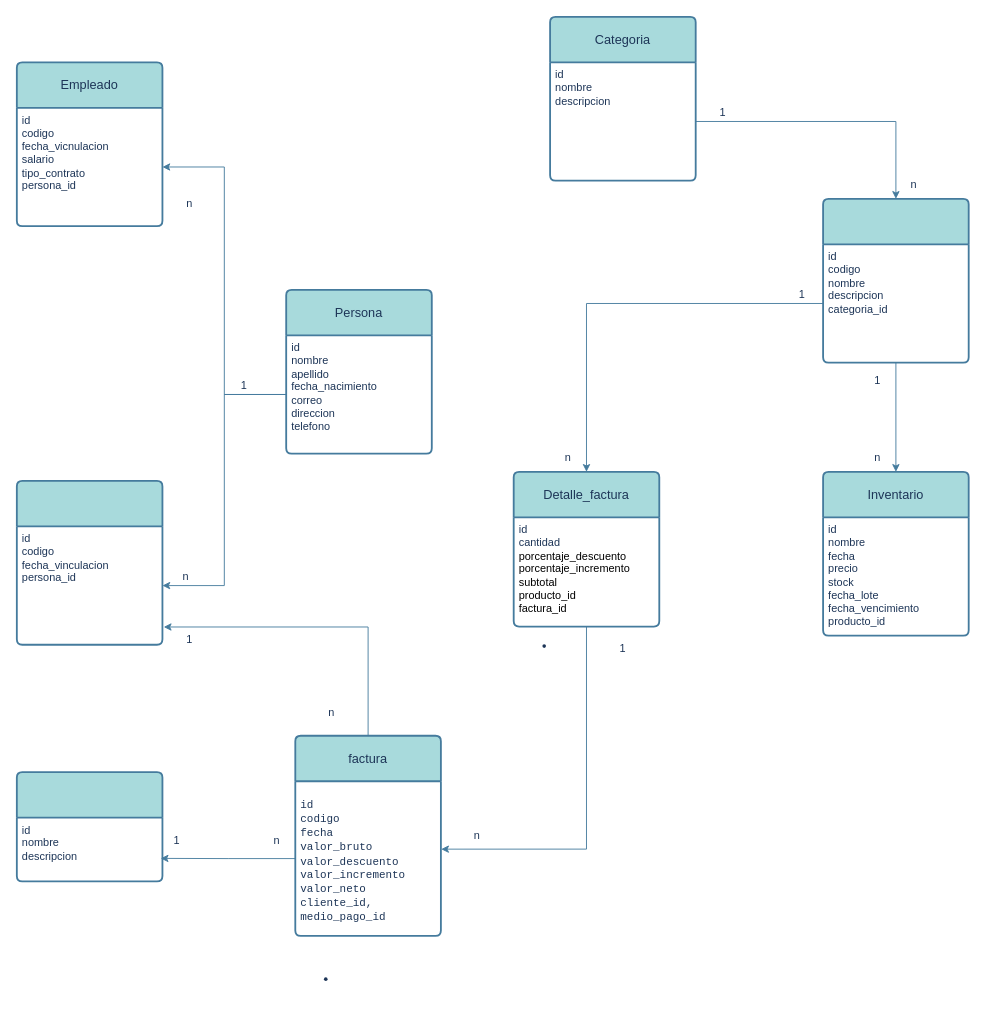
Some shapes in this 985 by 1012 pixel diagram are drawn without their labels. Each missing label, with the box of its shape:
Cliente: (15, 480, 163, 645)
metodo_pago: (15, 771, 163, 882)
producto: (822, 197, 969, 363)
